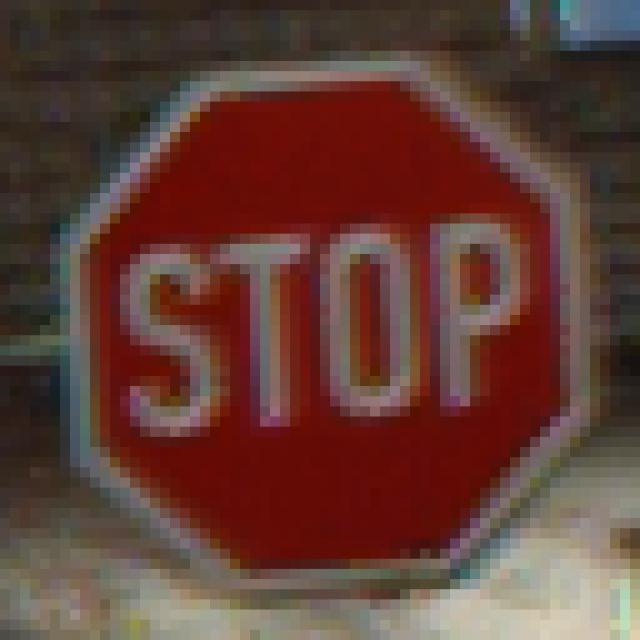STOP: (51, 52, 591, 590)
